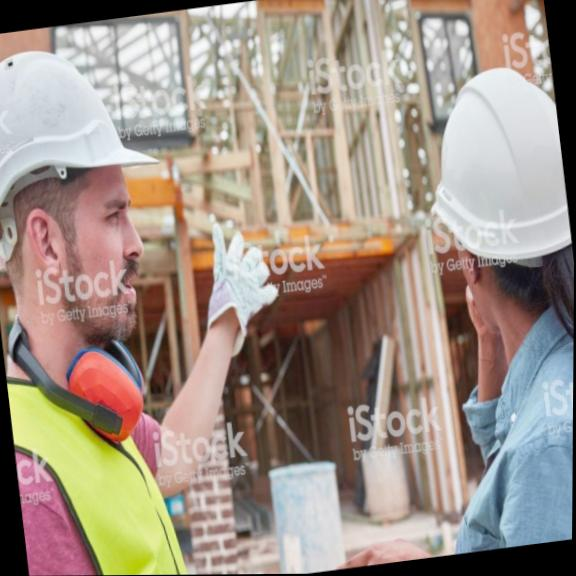safety_vest: (4, 351, 198, 576)
